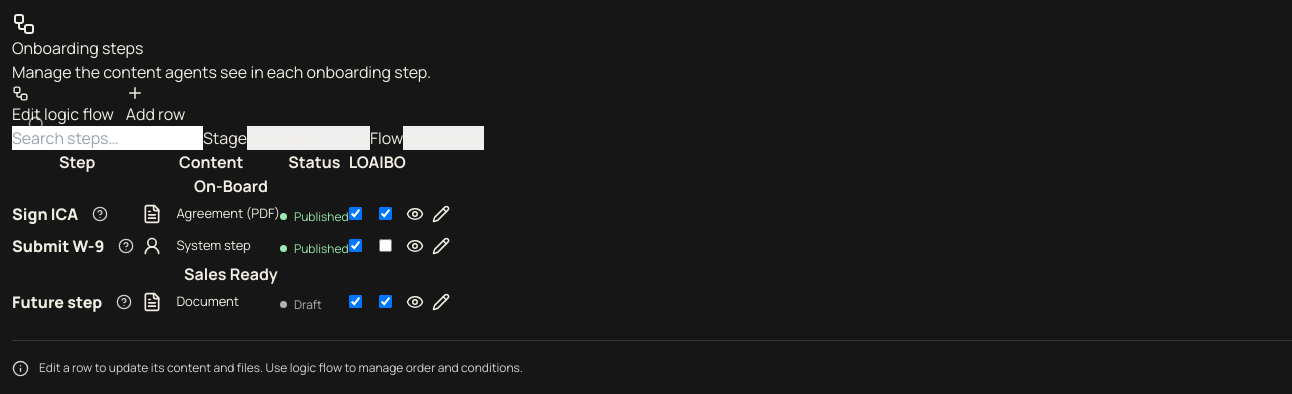
Test: Onboarding content editor › filters the table by stage, flow and search
This screenshot has width=1292, height=394.
Select "IBO" in the dropdown labelled "Flow" at (444, 138), box x1=403 y1=126 x2=484 y2=150
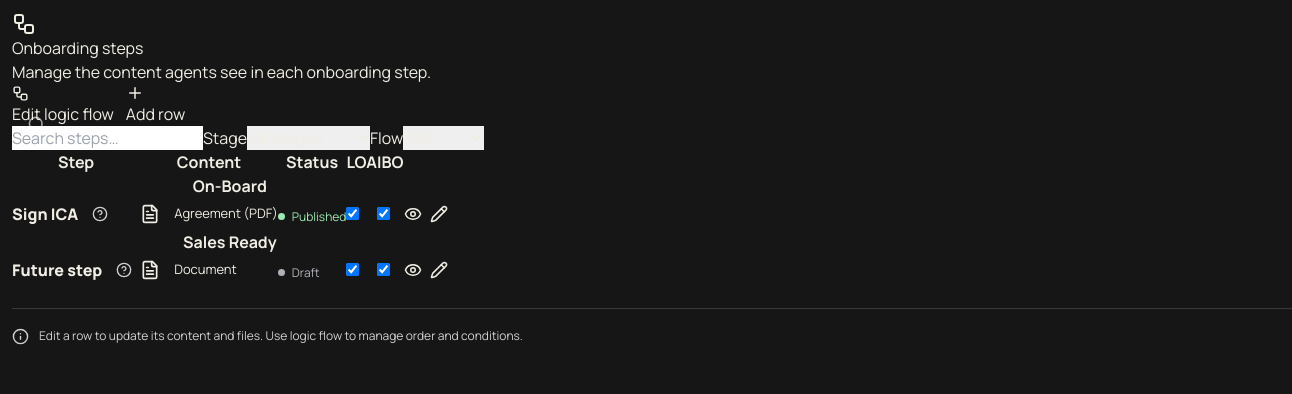
Result: the text "Submit W-9" is gone
Select "Sales Ready" in the dropdown labelled "Stage" at (308, 138), box x1=247 y1=126 x2=370 y2=150
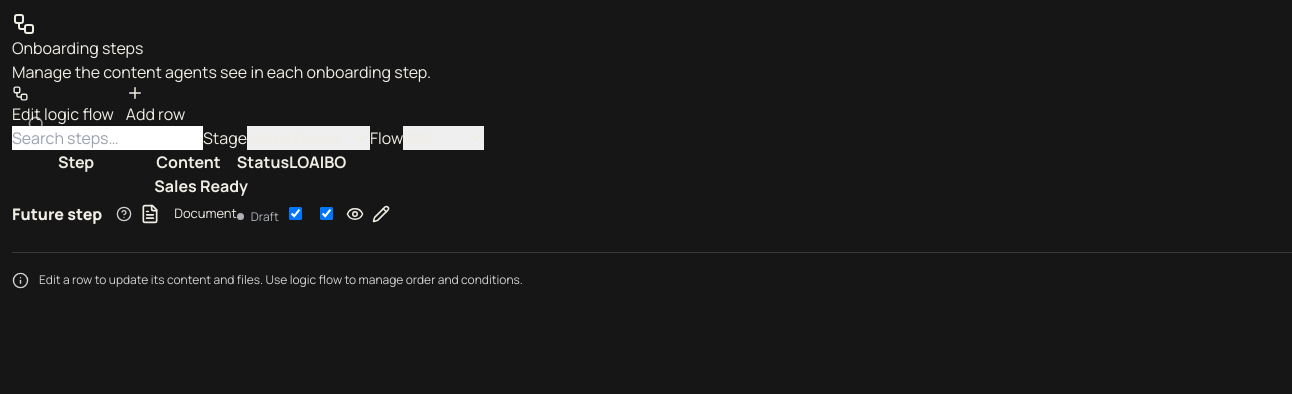
Expected: the text "Future step" is shown, x1=12 y1=202 x2=102 y2=226
Result: the text "Sign ICA" is gone
Type "missing" into the field labelled "Search steps" at (108, 138), box x1=12 y1=126 x2=203 y2=150
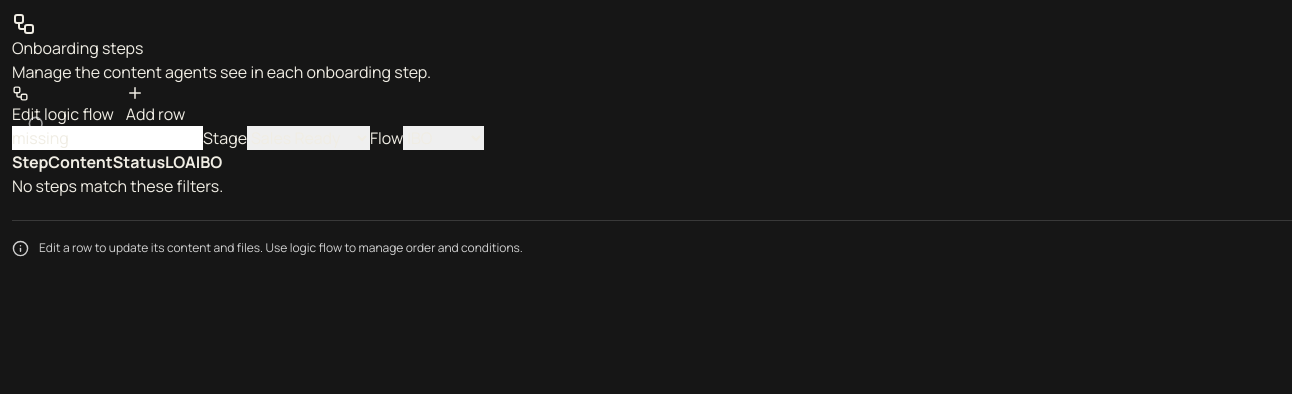
Result: the text "No steps match these filters." is shown at x1=12 y1=175 x2=223 y2=197
